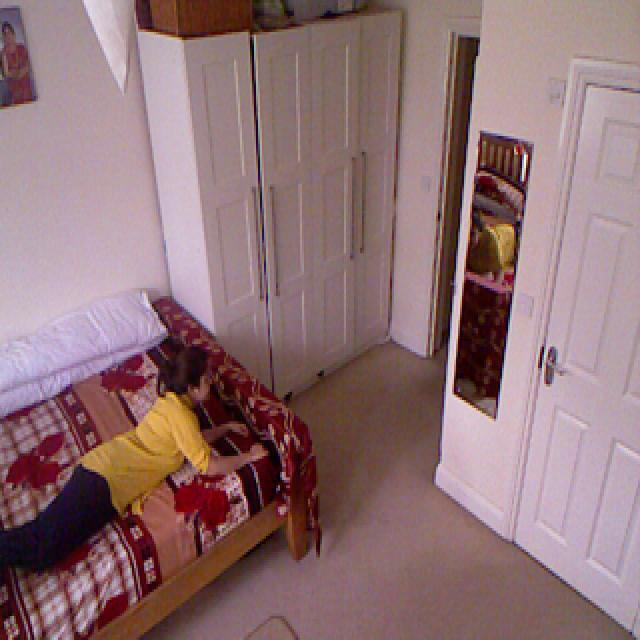lying: (0, 347, 270, 576)
